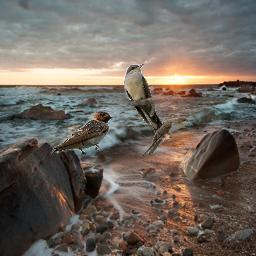Cuckoo: (124, 64, 171, 142), (142, 117, 194, 156)
Swallow: (50, 110, 114, 156)
